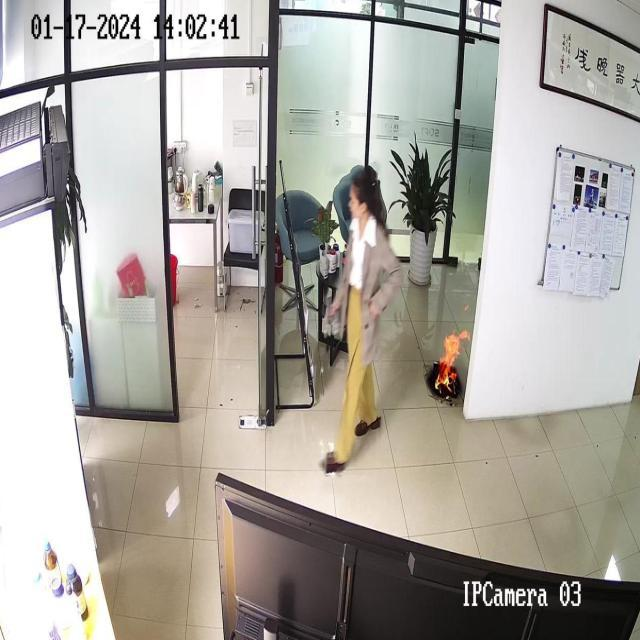smoke: (436, 326, 462, 389)
